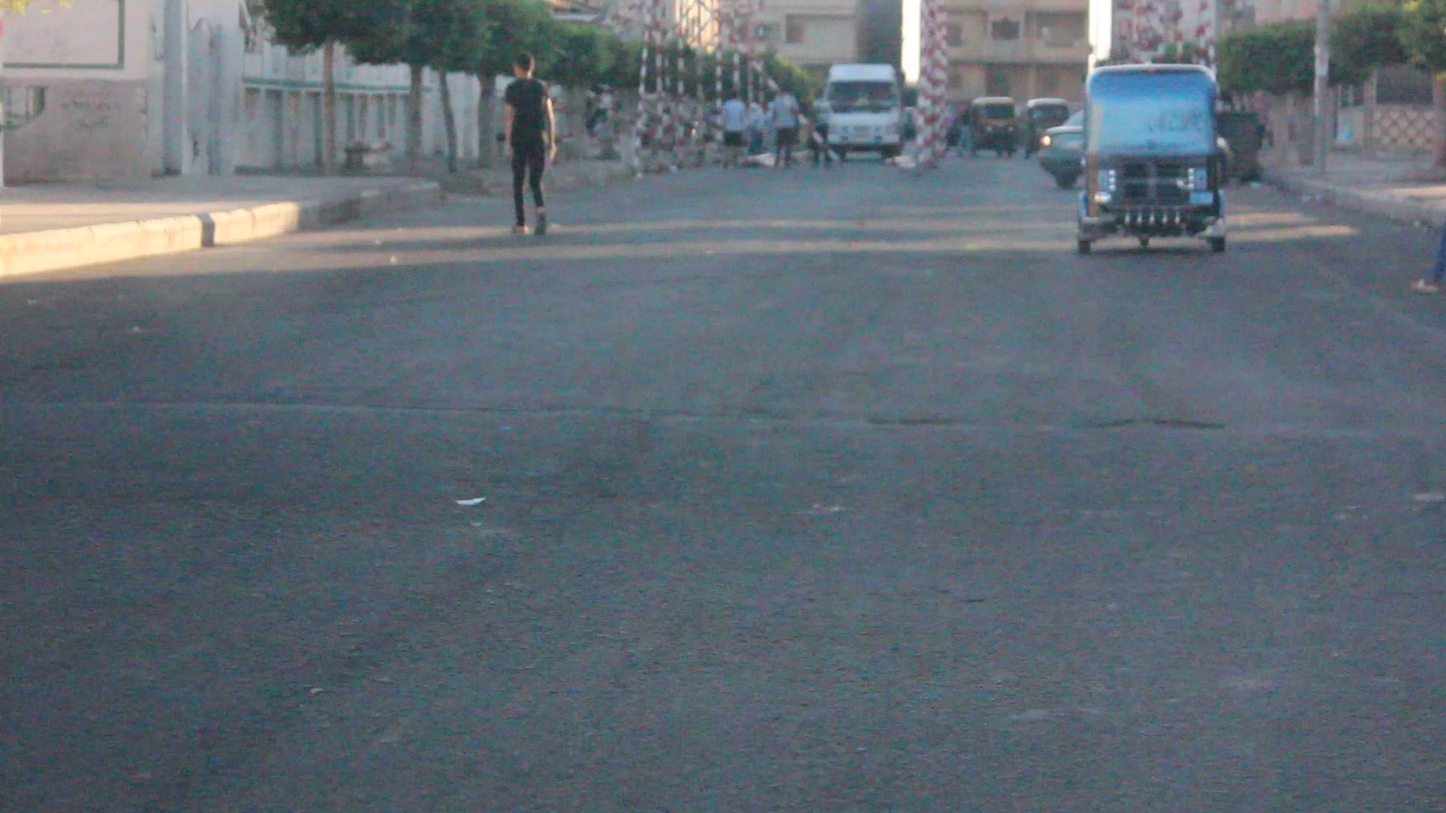Bump: (4, 405, 1446, 566)
